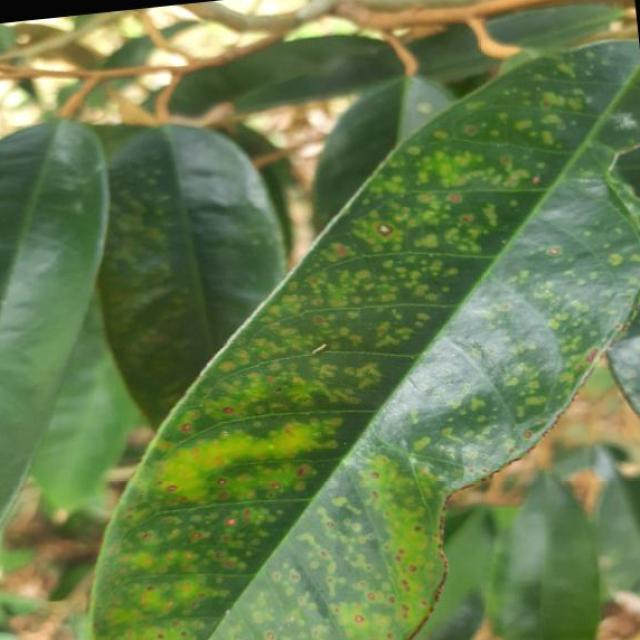Leaf Spot: (25, 29, 640, 640)
